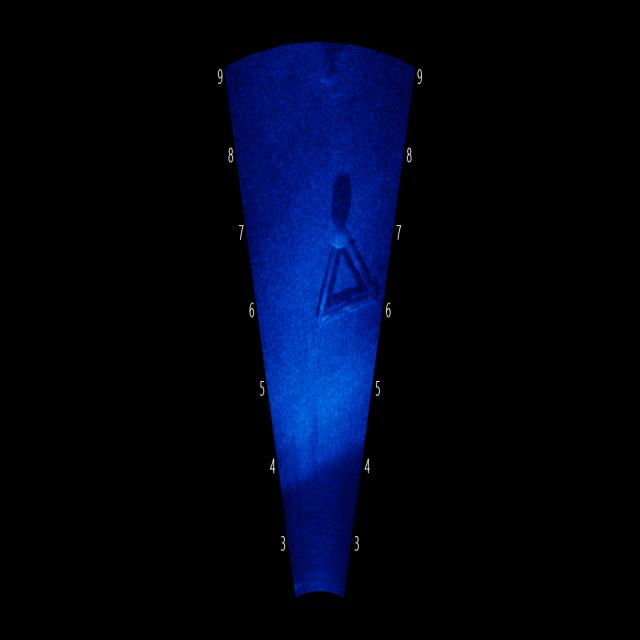triangle: (296, 177, 380, 387)
